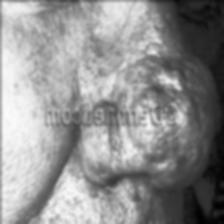Non-Cancerous Skin Condition: (26, 16, 209, 213)
